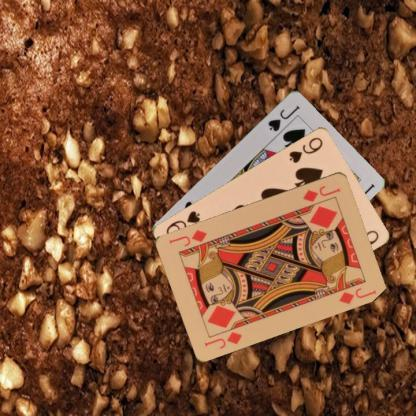9s: (286, 134, 324, 164)
Jd: (202, 328, 244, 350), (300, 182, 342, 203)
Js: (265, 102, 301, 132)
